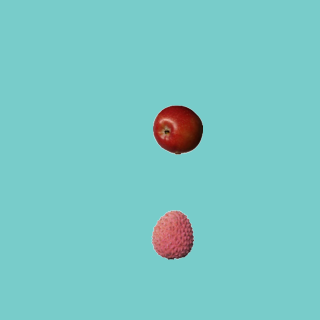Apple Braeburn: (152, 104, 202, 154)
Lychee: (147, 209, 197, 259)
